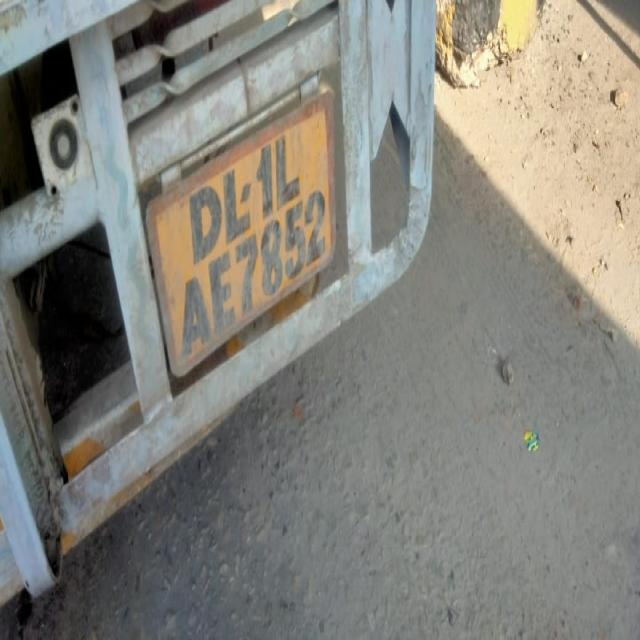License-plate: (128, 104, 379, 357)
